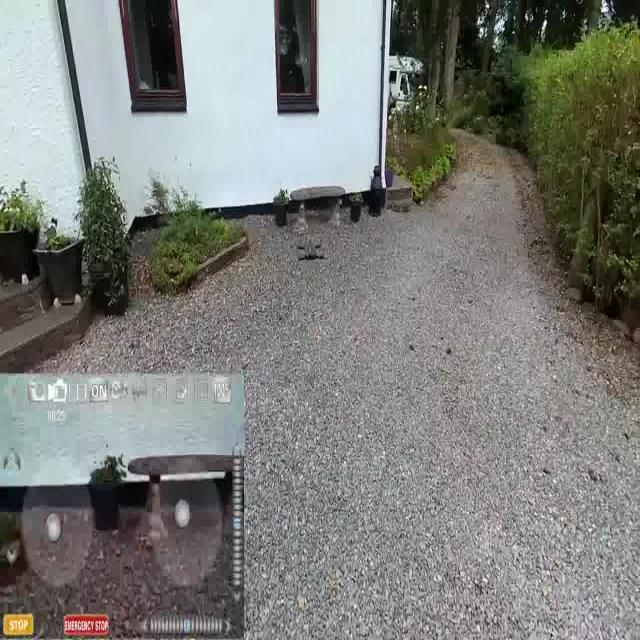Drone_FW: (295, 234, 331, 268)
